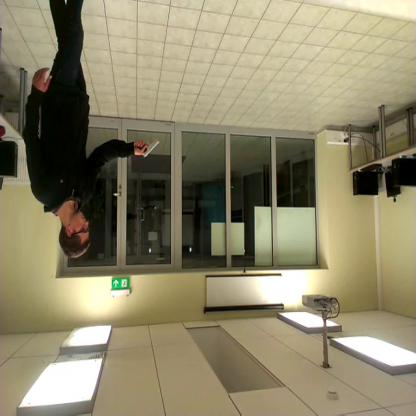Pistol: (133, 125, 166, 167)
